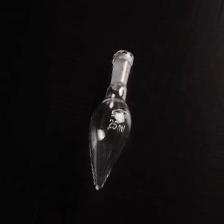Pear shaped flask: (91, 42, 134, 199)
